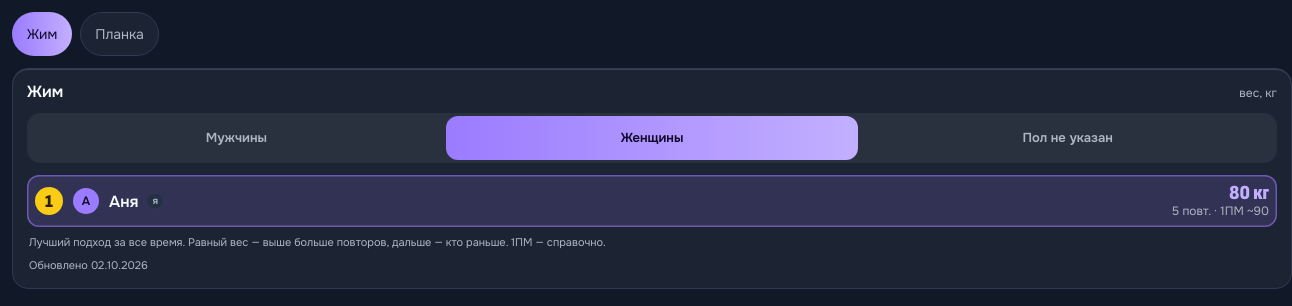
Test case: дисциплины в Ленте › выбирает женскую группу и переключает группы/метрики без килограммов у времени
The width and height of the screenshot is (1292, 306).
Expected: the text "80 кг" is shown, [1229,183,1269,203]
Expected: the text "100 кг" is not shown
What coordinates should you click on to do the following:
click the button "Мужчины"
I would click on:
 (236, 138)
Its box is [30,116,443,160].
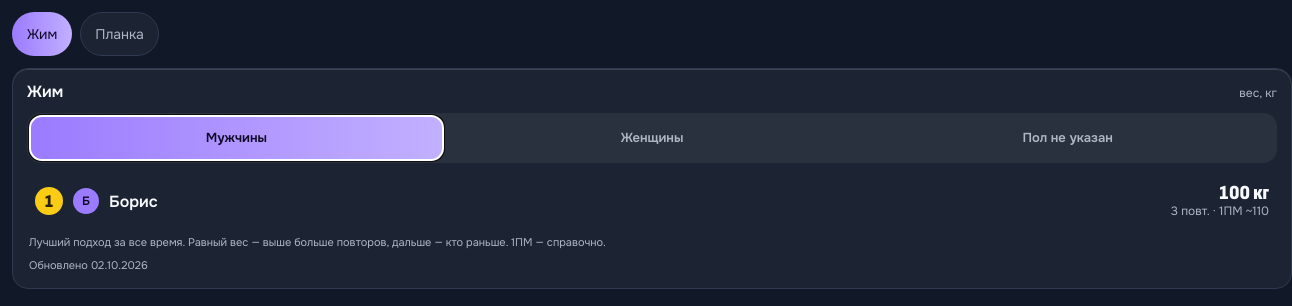
Now the text "100 кг" is shown, box [1219,183,1269,203]
What coordinates should you click on to do the following:
click the button "1 Б Борис 100 кг 3 повт. · 1ПМ ~110"
I would click on:
 (133, 201)
Its box is [27,175,1277,227].
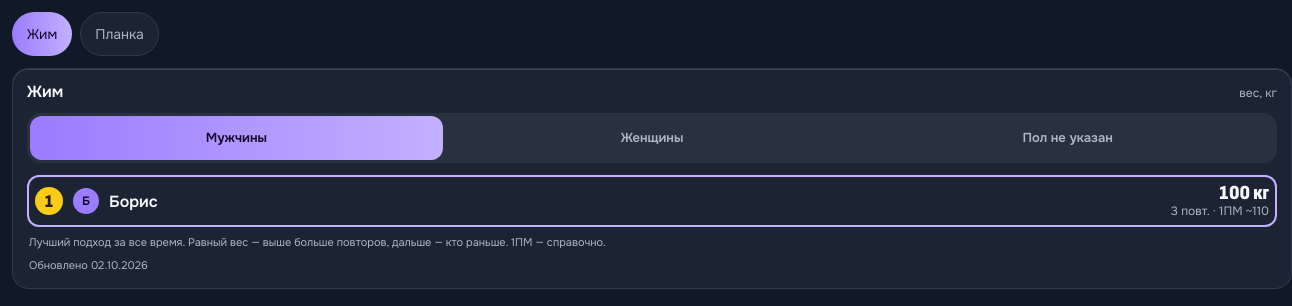
What coordinates should you click on to do the following:
click the button "Планка"
I would click on:
 (120, 34)
Its box is [80,12,159,56].
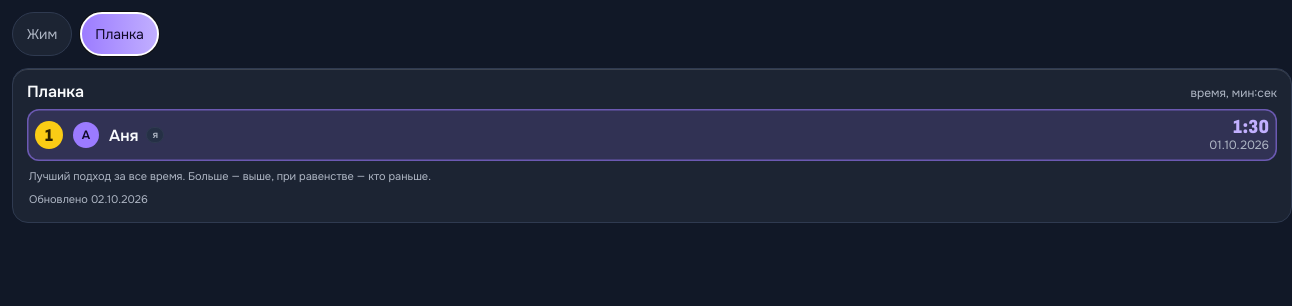
Now the text "1:30" is shown, box [1232,117,1269,137]
Now the text "кг" is gone
